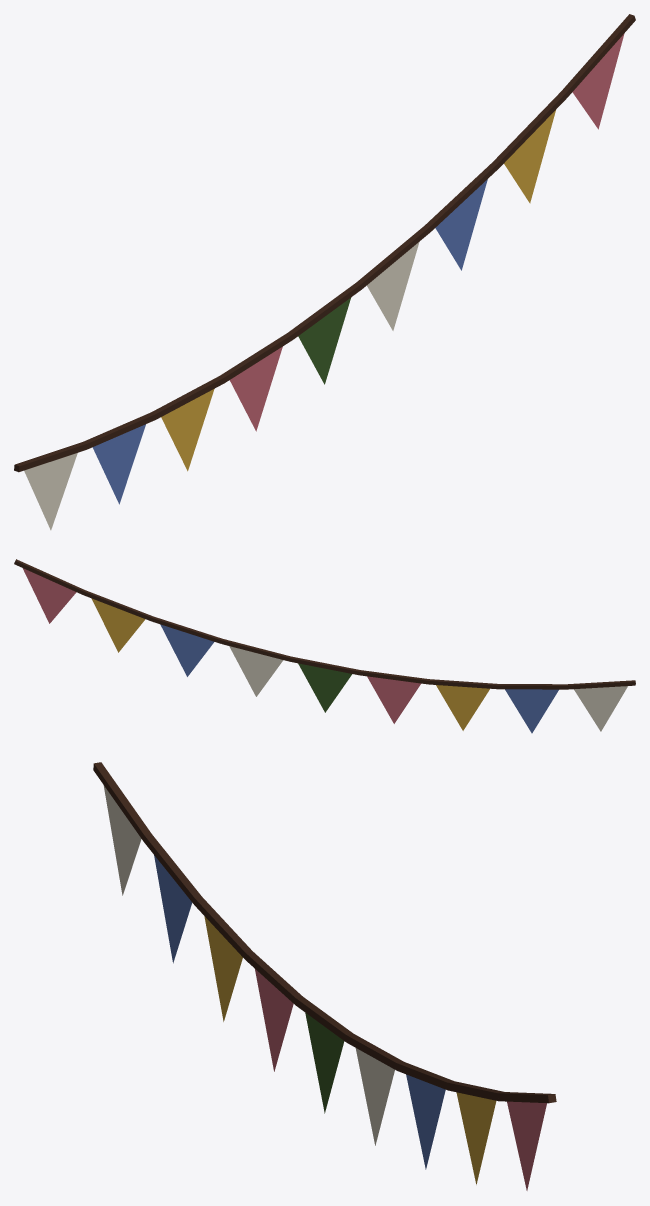
The model's file is scene_bunting_2.glb.
3 renders of one model, top to bottom at view 1: azimuth 30°, elevation 25°; view 2: azimuth 150°, elevation 25°; view 3: azimuth 270°, elevation 25°, orthographic. The views are drawn at different scales.
Visible parts, largest first — view 1: scene_bunting_2; view 2: scene_bunting_2; view 3: scene_bunting_2.
Boxes of the visible parts, left/top/right/bottom form: scene_bunting_2: left=14, top=14, right=635, bottom=530; scene_bunting_2: left=14, top=559, right=635, bottom=733; scene_bunting_2: left=93, top=762, right=556, bottom=1190.
Size of the model in its own units: 3.62 by 0.9658 by 1.43.
